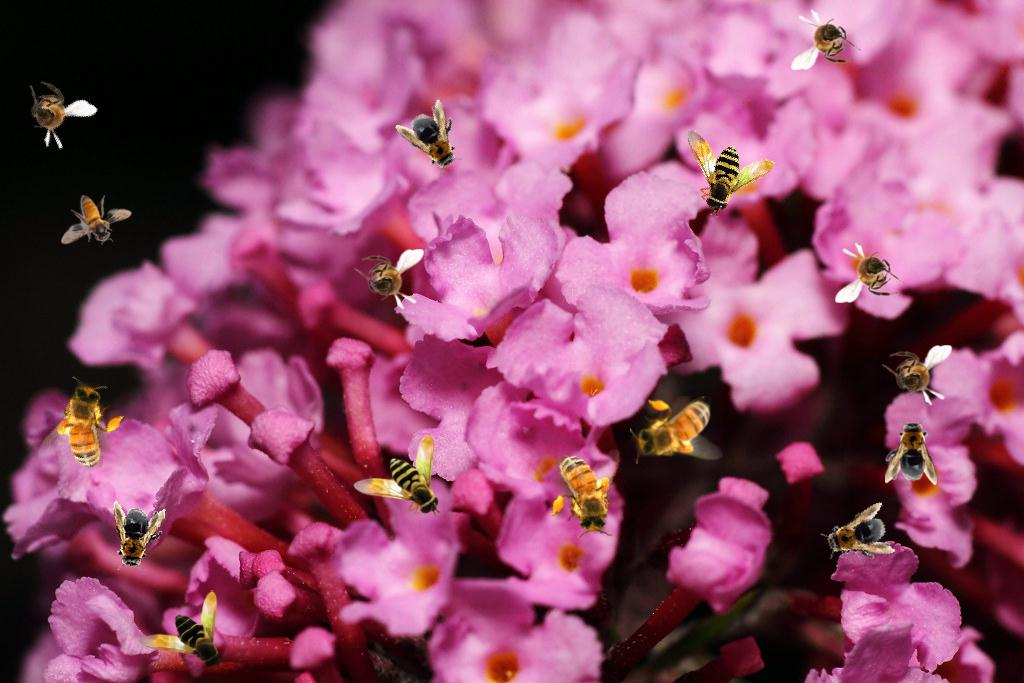Bee: (663, 100, 781, 220), (32, 370, 136, 485), (6, 68, 99, 160), (544, 440, 626, 543), (137, 590, 225, 672), (353, 435, 441, 517), (394, 97, 476, 183), (630, 396, 723, 464), (816, 501, 898, 573), (106, 501, 166, 575), (835, 242, 905, 303), (882, 345, 952, 406), (791, 9, 861, 70), (354, 249, 424, 310), (61, 195, 132, 245), (885, 417, 937, 485)
